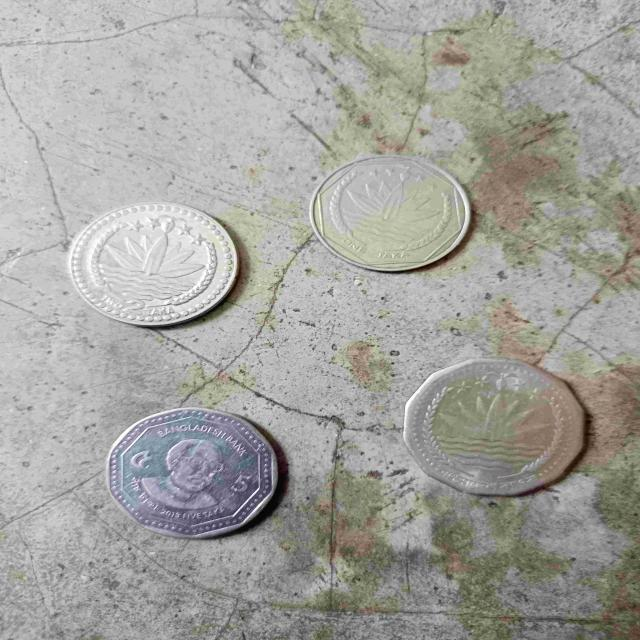1_taka: (281, 136, 498, 286)
2_taka: (39, 183, 260, 343)
5_taka: (68, 389, 320, 570), (363, 338, 621, 513)
